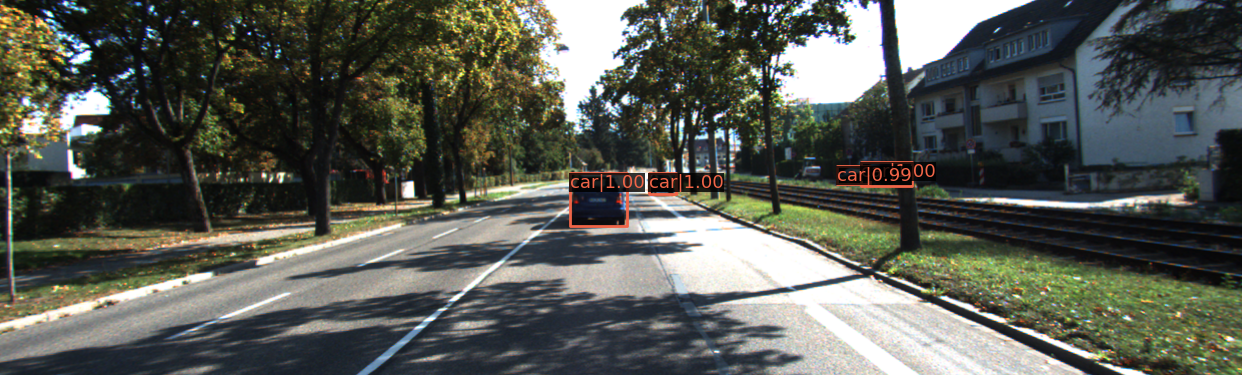car: (571, 174, 628, 229), (862, 162, 904, 189), (837, 169, 875, 188), (650, 176, 676, 198)
